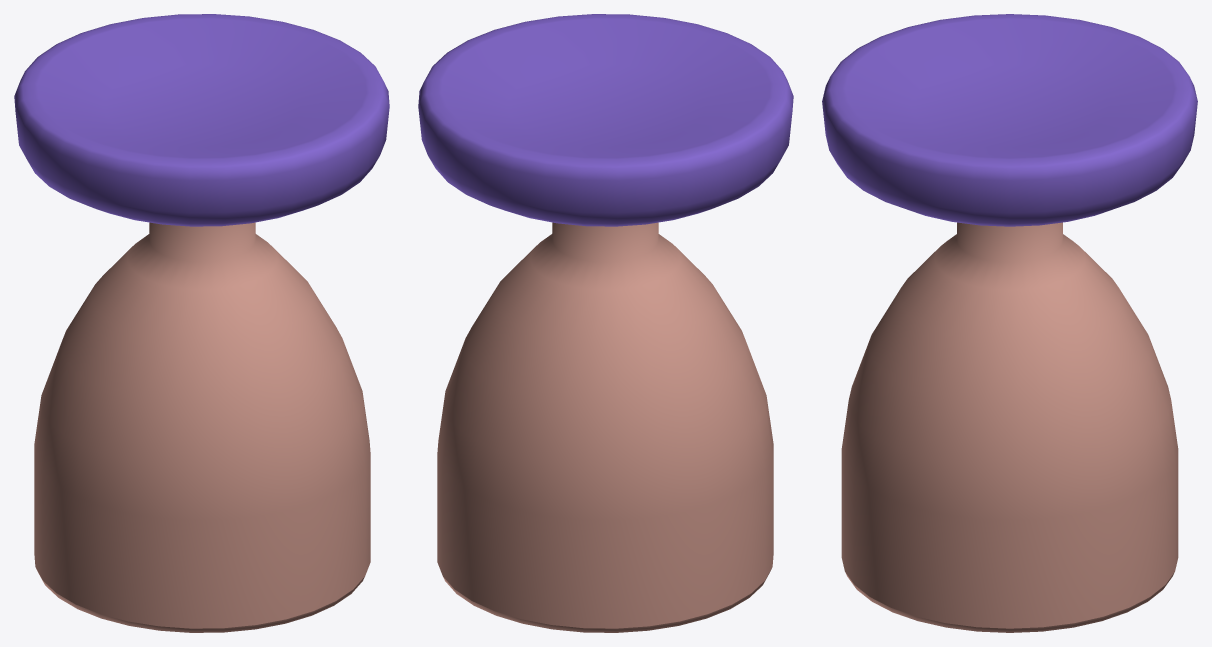
File: Misc_01.fbx
3 views of the same model, side by side, from view 1: azimuth 30°, elevation 25°; view 2: azimuth 150°, elevation 25°; view 3: azimuth 270°, elevation 25° (orthographic).
Parts seen in each view (by area): view 1: SetA_Misc_01; view 2: SetA_Misc_01; view 3: SetA_Misc_01.
Part boxes in pixels (left/top/right/bottom): SetA_Misc_01: left=14, top=14, right=389, bottom=632; SetA_Misc_01: left=418, top=14, right=793, bottom=632; SetA_Misc_01: left=822, top=14, right=1197, bottom=632.
Bounding box in the file's own units: 0.1024 × 0.1432 × 0.1024.
